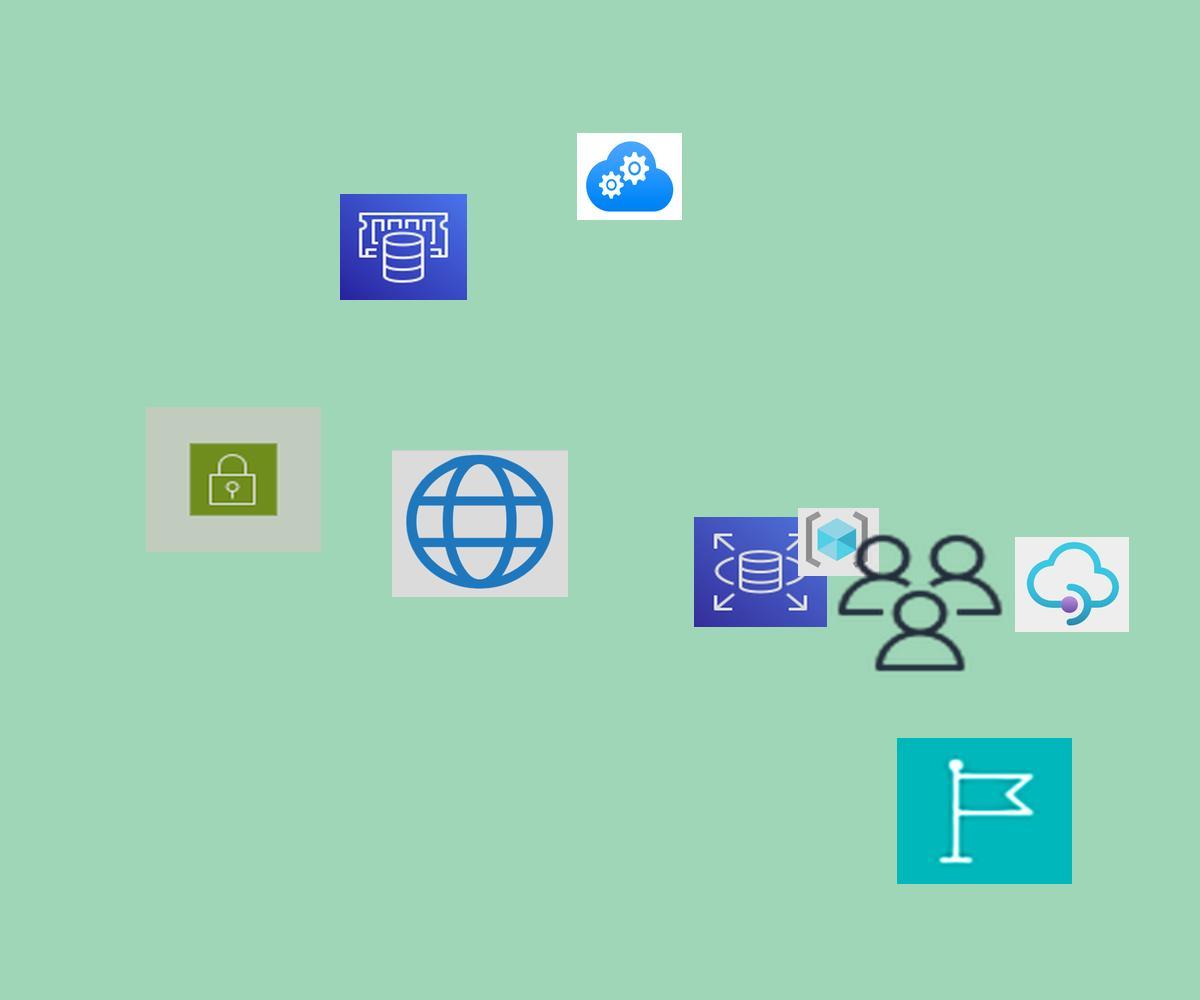AWS-ElastiCache: (340, 194, 467, 300)
AWS-Public-subnet: (146, 407, 321, 552)
AWS-RDS: (694, 517, 827, 627)
AWS-Region: (897, 738, 1072, 884)
AWS-Res_Users: (831, 529, 1009, 677)
Azure_api_gateway: (1015, 537, 1129, 632)
Azure_cloud_services: (577, 133, 682, 220)
Azure_http: (392, 450, 568, 597)
Azure_resource_group: (798, 508, 879, 576)
